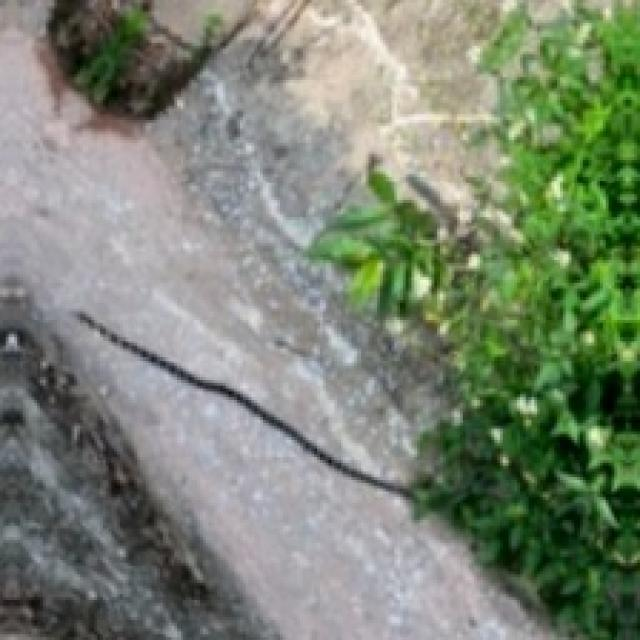king cobra: (77, 311, 411, 497)
